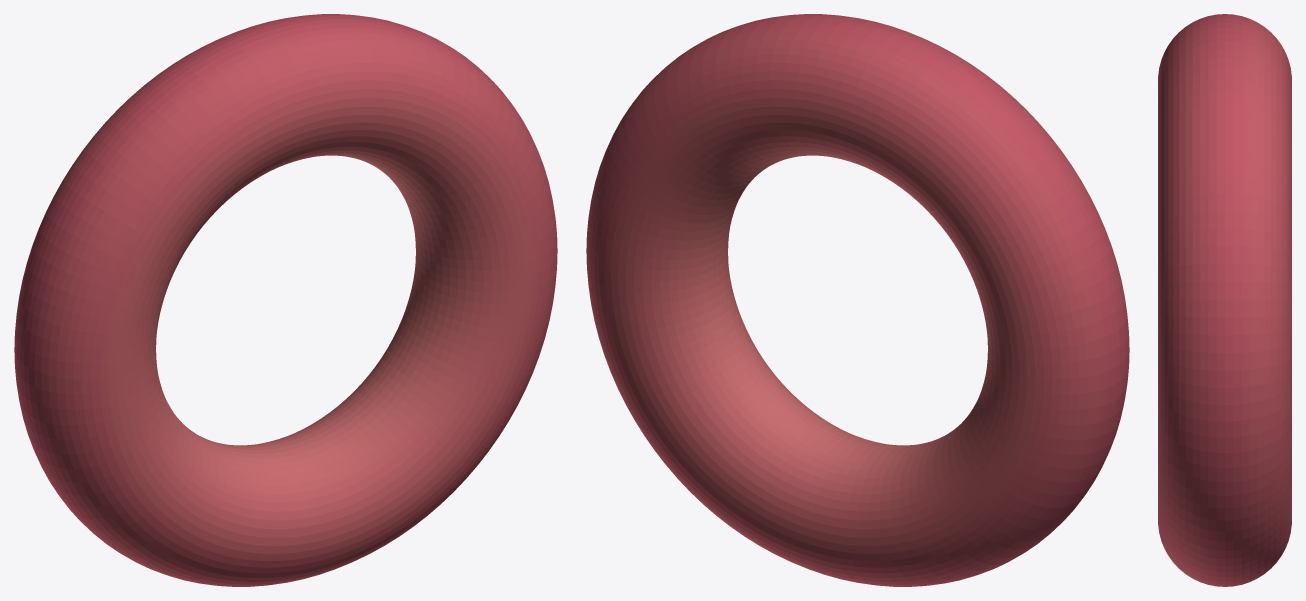
3 renders of one model, left to right at view 1: azimuth 30°, elevation 25°; view 2: azimuth 150°, elevation 25°; view 3: azimuth 270°, elevation 25°, orthographic. The views are drawn at different scales.
Parts seen in each view (by area): view 1: world; view 2: world; view 3: world.
Part boxes in pixels (box(x1,y1,x2,y2)): world: box(14, 14, 557, 586); world: box(586, 14, 1129, 586); world: box(1158, 14, 1291, 586).
Size of the model in its own units: 31.33 by 31.33 by 7.32.
